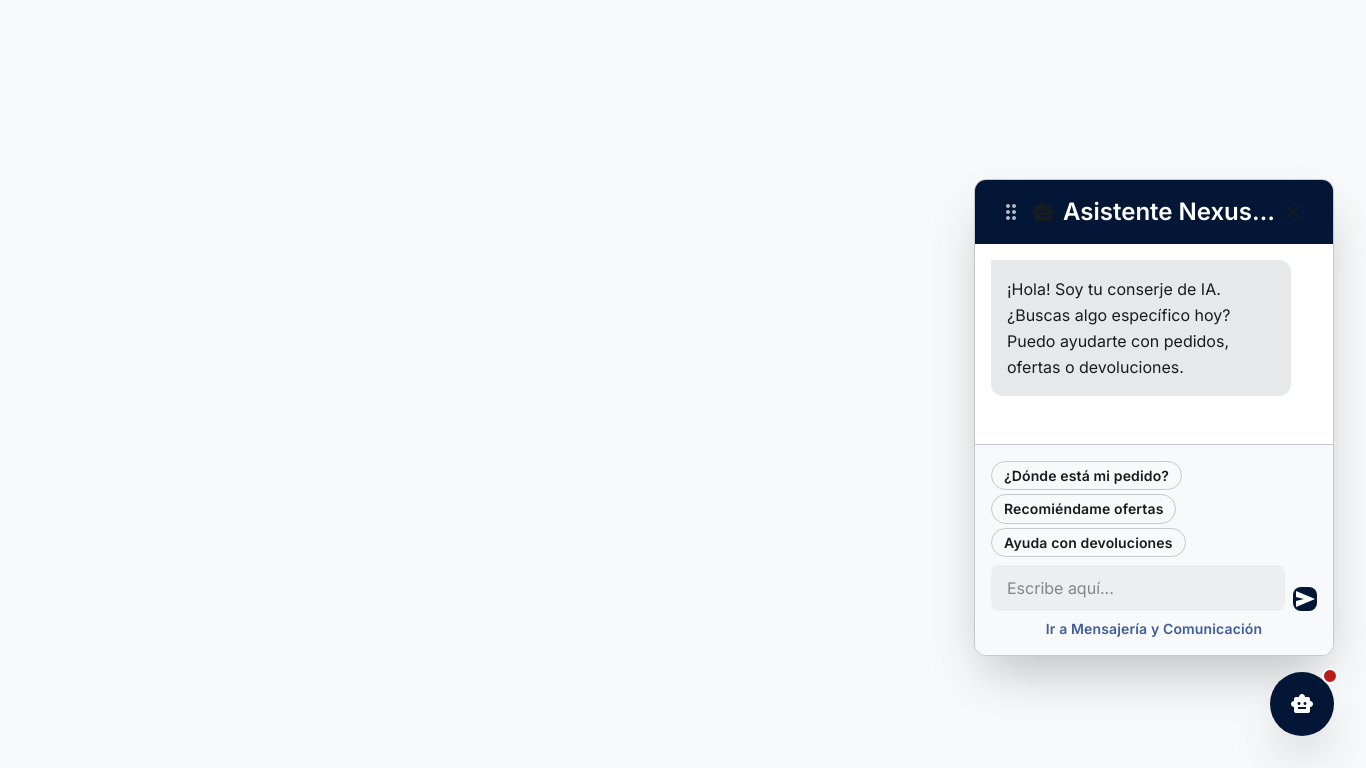
Test case: AiChatWidget › sends a message when typing and pressing Enter
The image size is (1366, 768).
Type "pedido" into the text box with placeholder "Escribe aquí...". click: (1138, 588)
box: [991, 565, 1285, 611]
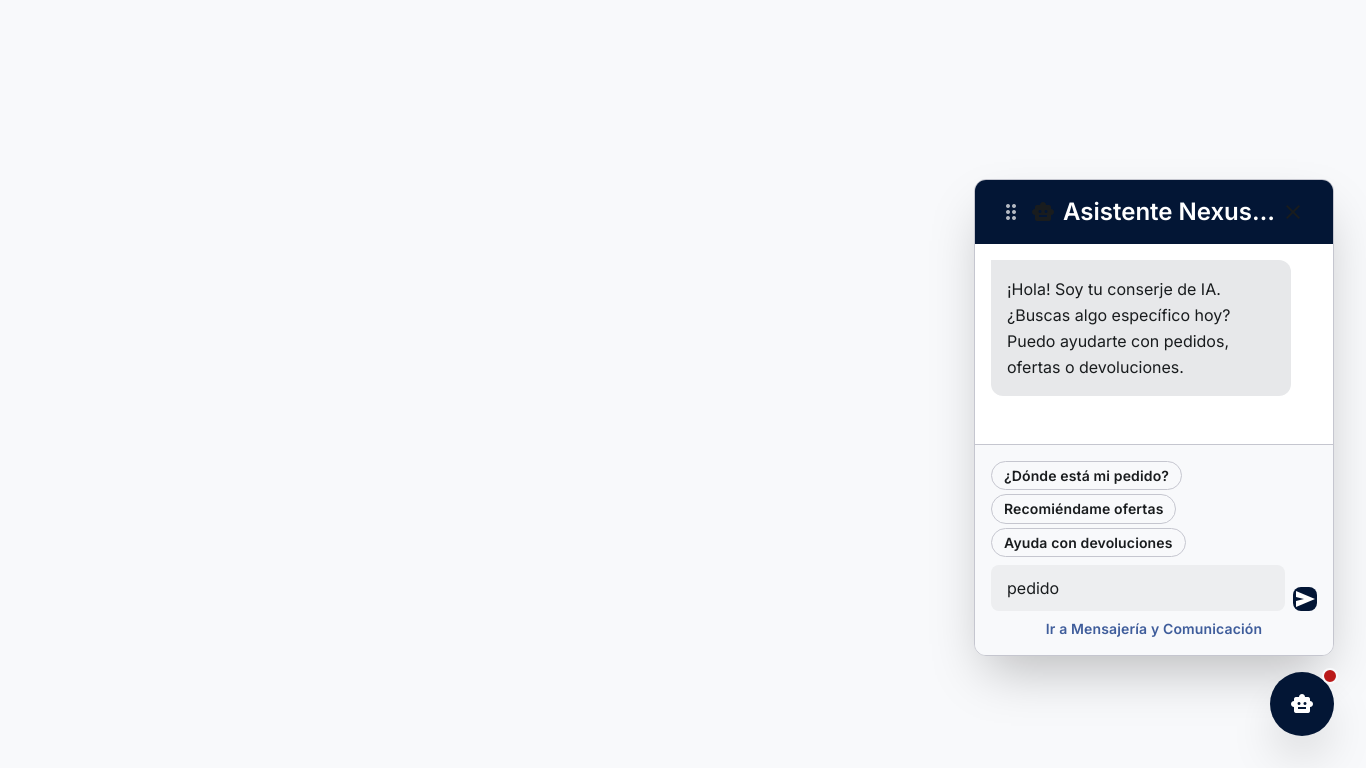
Press Enter in the text box with placeholder "Escribe aquí...", box [991, 565, 1285, 611]
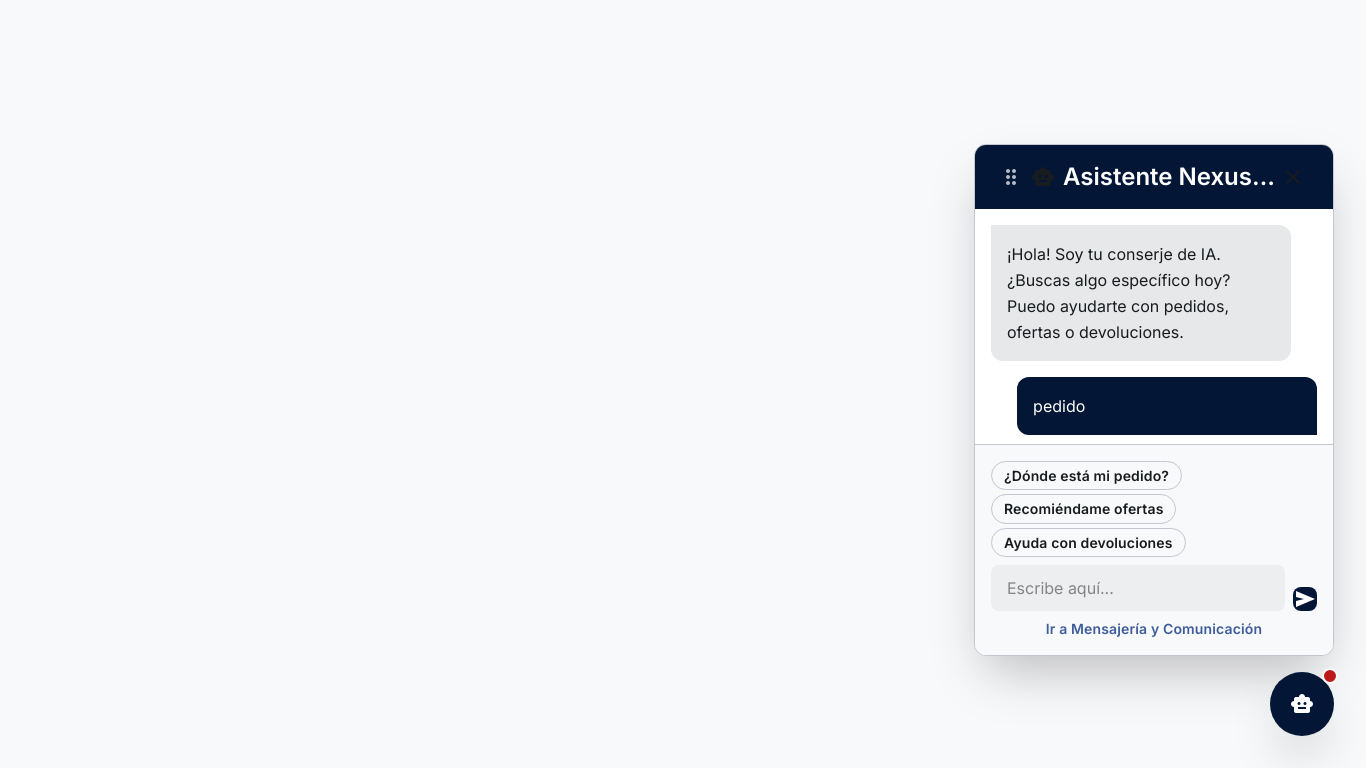
Expected: the text "pedido" is shown, [1017, 377, 1317, 435]
